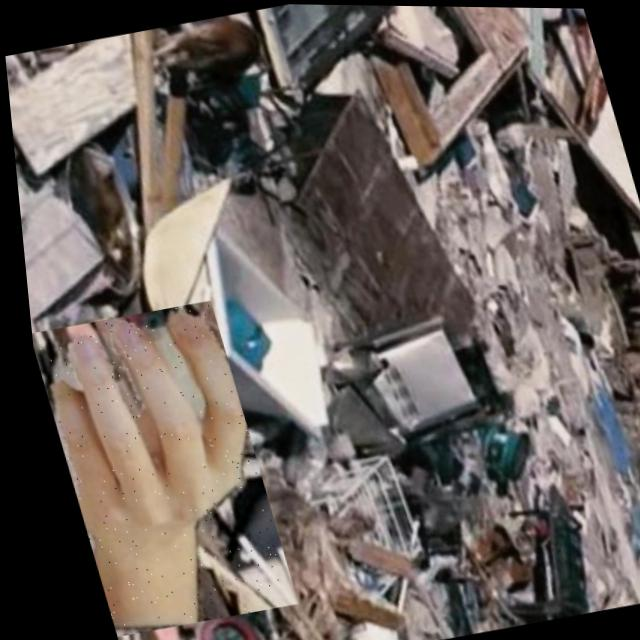Person in Rubble: (23, 298, 288, 639)
